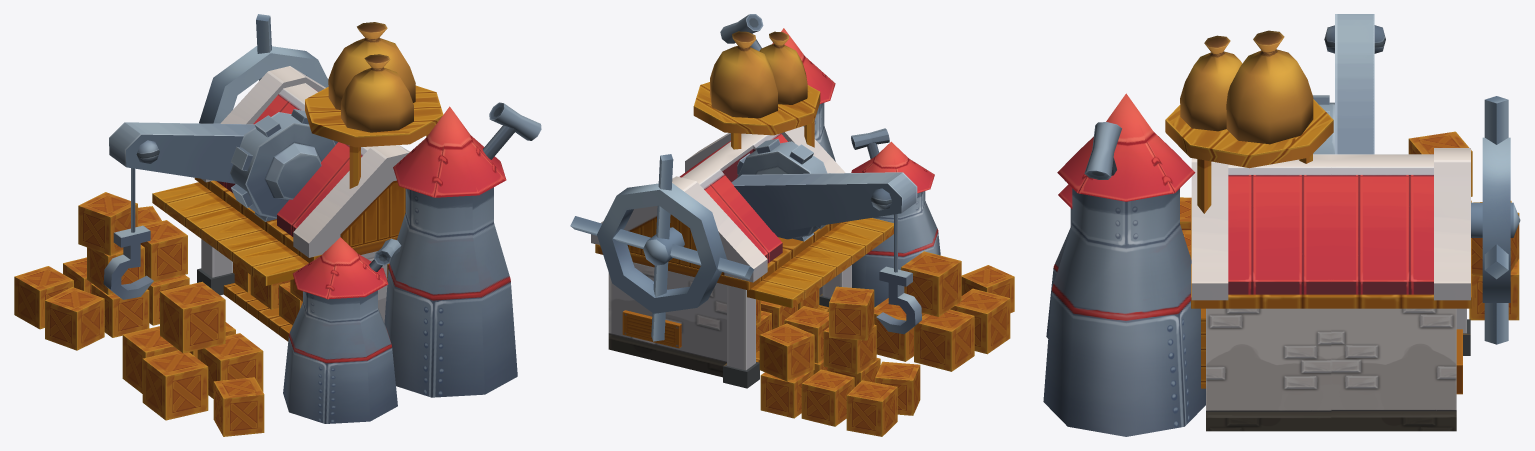
File: liangcang.FBX
The picture shows the model from 3 angles, left to right: view 1: azimuth 30°, elevation 25°; view 2: azimuth 150°, elevation 25°; view 3: azimuth 270°, elevation 25°; orthographic projection. The views are drawn at different scales.
Visible parts, largest first — view 1: lc; view 2: lc; view 3: lc.
Boxes of the visible parts, left/top/right/bottom form: lc: left=14, top=14, right=541, bottom=436; lc: left=570, top=14, right=1014, bottom=436; lc: left=1043, top=14, right=1520, bottom=436.
Size of the model in its own units: 494 by 404 by 493.
